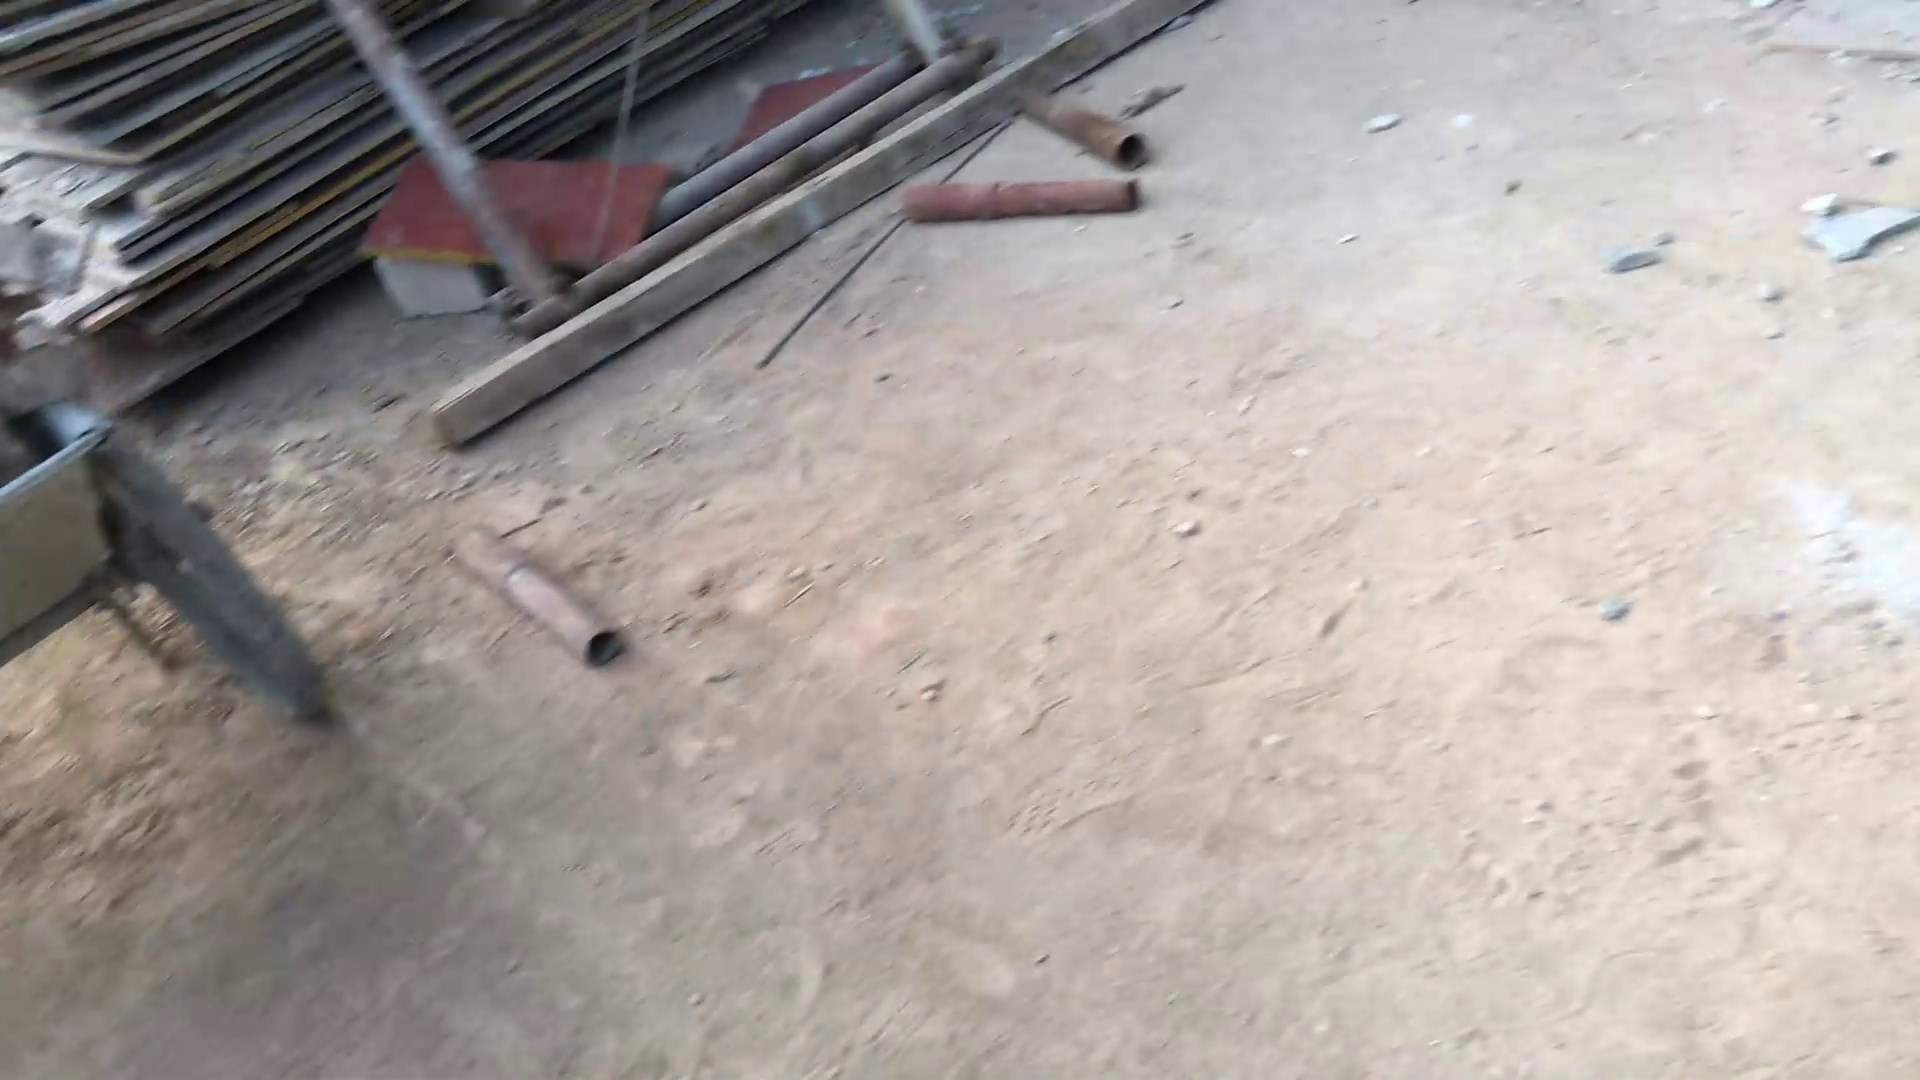handcart: (7, 309, 376, 791)
